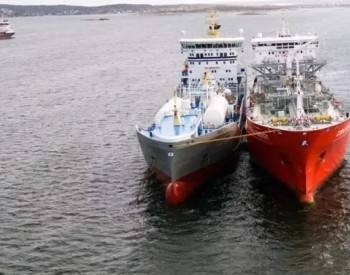Cargoship: (132, 11, 256, 189), (241, 15, 350, 201)
